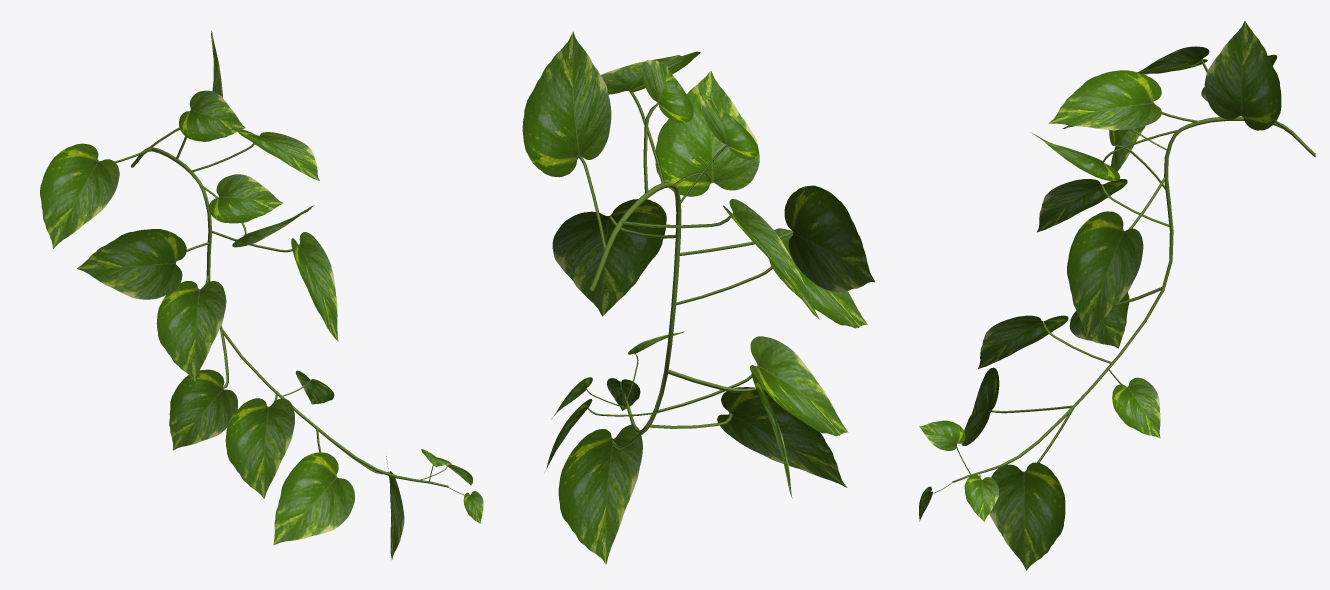
Rendered from ivy.glb.
3 views of the same model, side by side, from view 1: azimuth 30°, elevation 25°; view 2: azimuth 150°, elevation 25°; view 3: azimuth 270°, elevation 25° (orthographic). The views are drawn at different scales.
Bounding box in the file's own units: 0.3009 × 0.4193 × 0.2994.
2 materials, 2 textured.
